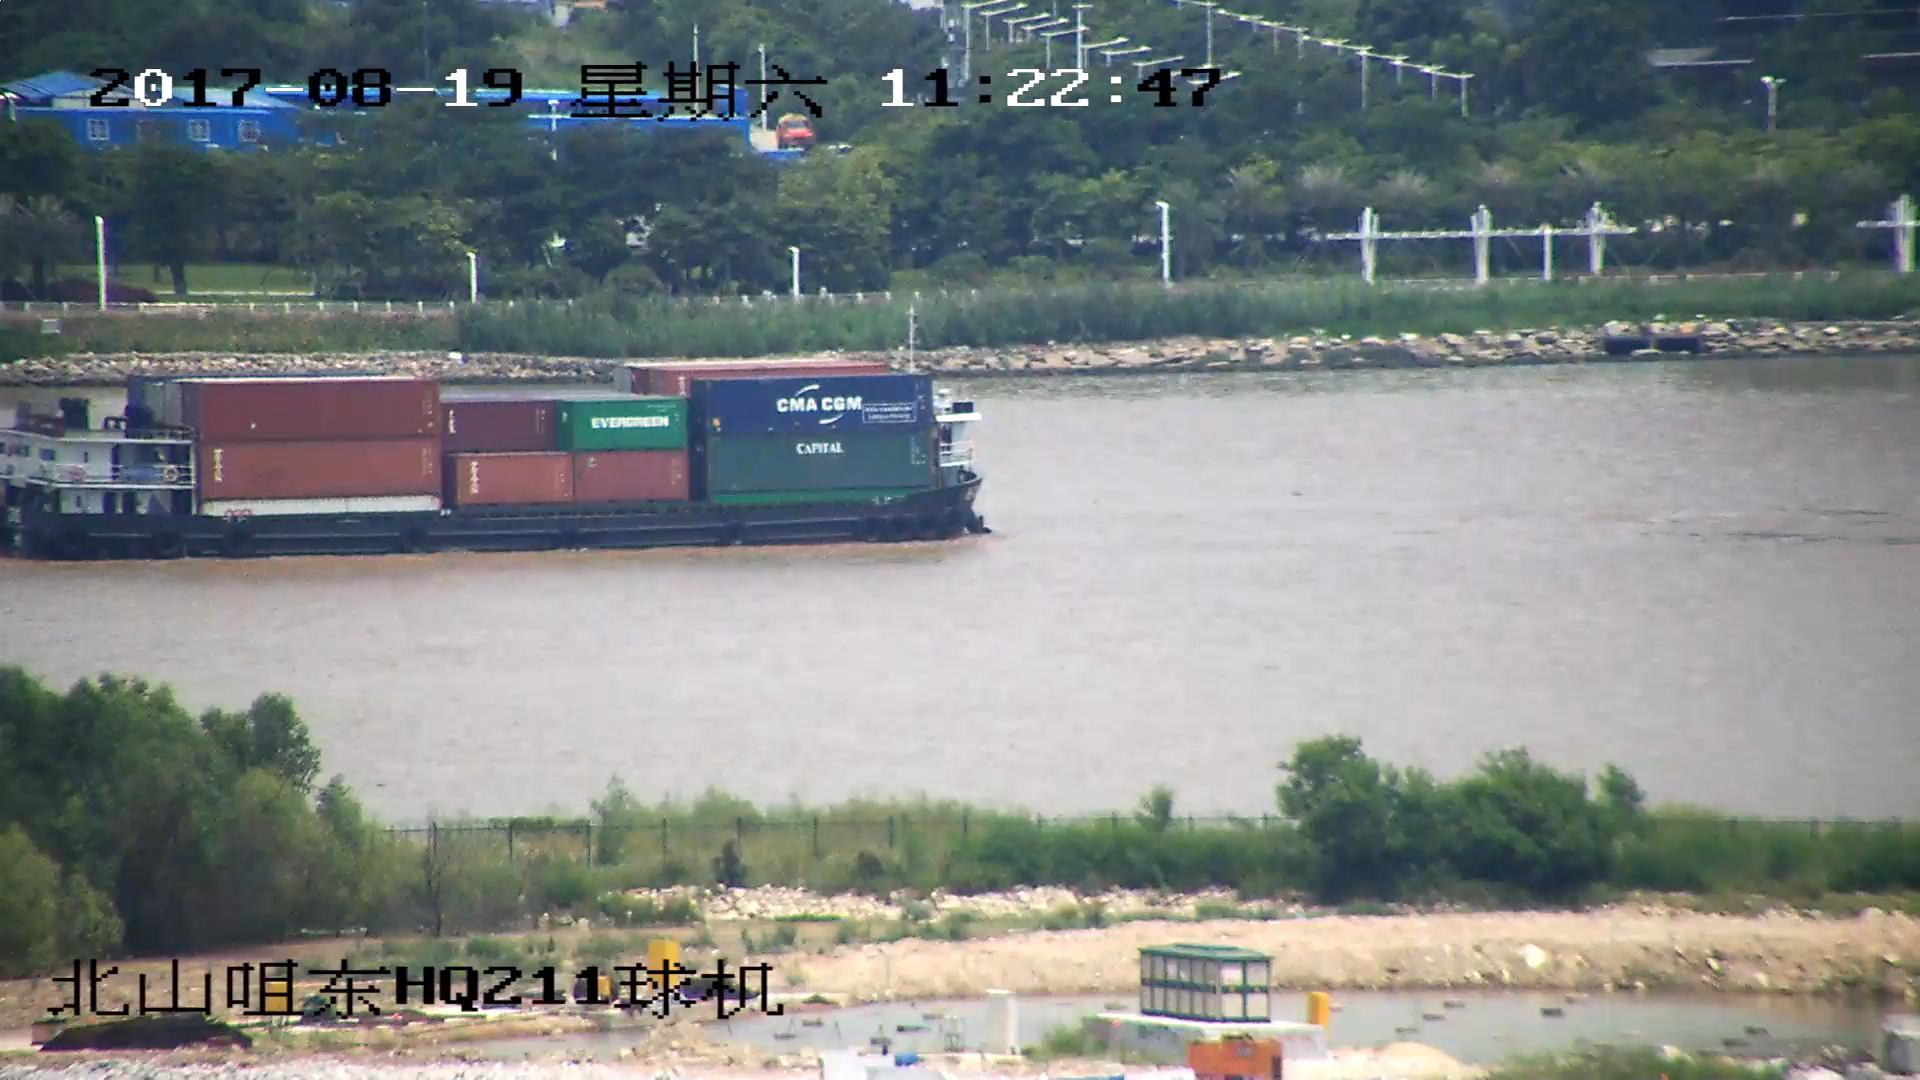Ship: (3, 318, 992, 558)
